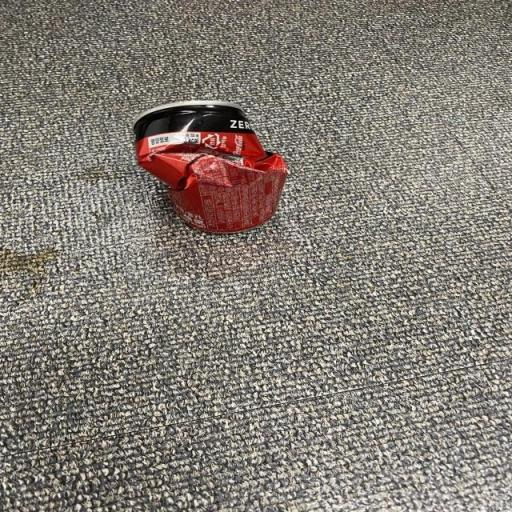metal: (122, 88, 306, 246)
